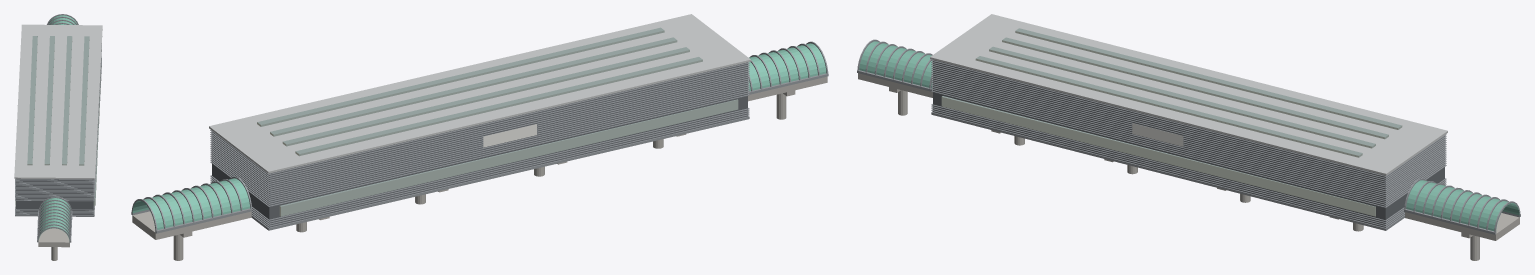
Rendered from mrt_city_hall_station.glb.
3 renders of one model, left to right at view 1: azimuth 30°, elevation 25°; view 2: azimuth 150°, elevation 25°; view 3: azimuth 270°, elevation 25°, orthographic. The views are drawn at different scales.
Parts seen in each view (by area): view 1: mrt_city_hall_station_mesh; view 2: mrt_city_hall_station_mesh, sign:市政府站.001; view 3: mrt_city_hall_station_mesh, sign:市政府站.
Boxes of the visible parts, x1=… form: mrt_city_hall_station_mesh: x1=14, y1=14, x2=102, y2=260; mrt_city_hall_station_mesh: x1=131, y1=14, x2=828, y2=260; sign:市政府站.001: x1=483, y1=124, x2=536, y2=147; mrt_city_hall_station_mesh: x1=857, y1=14, x2=1520, y2=260; sign:市政府站: x1=1132, y1=123, x2=1183, y2=146.
Bounding box in the file's own units: 100 × 24.5 × 156.
